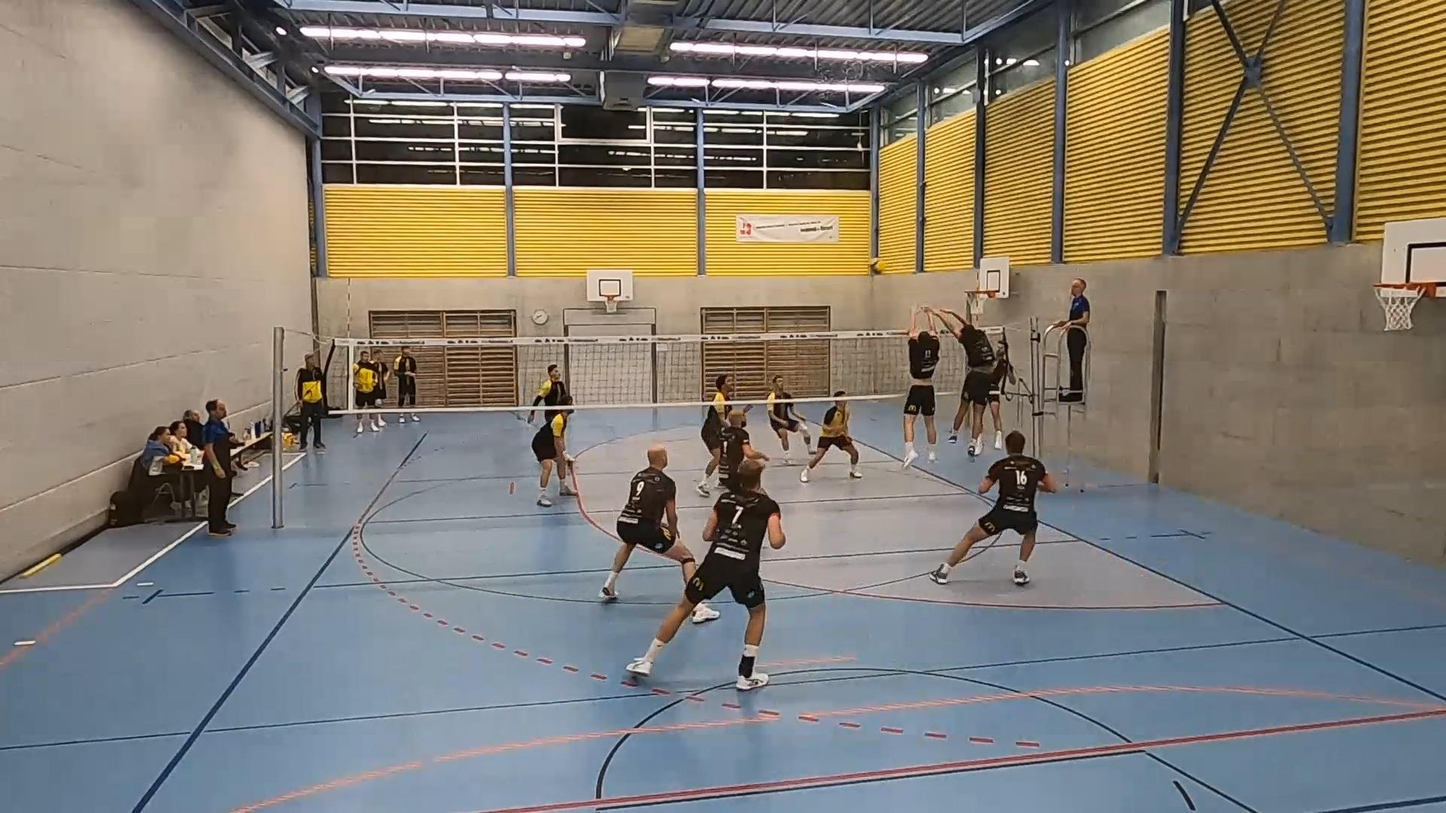Attack: (950, 332, 1019, 449)
Block: (931, 302, 998, 458), (901, 305, 945, 473)
Player: (626, 461, 785, 690), (929, 431, 1056, 586), (599, 446, 696, 601), (801, 390, 862, 482), (532, 396, 575, 507), (696, 373, 733, 496), (766, 376, 812, 464), (719, 410, 768, 491), (528, 364, 569, 423)
ball: (868, 259, 891, 275)
